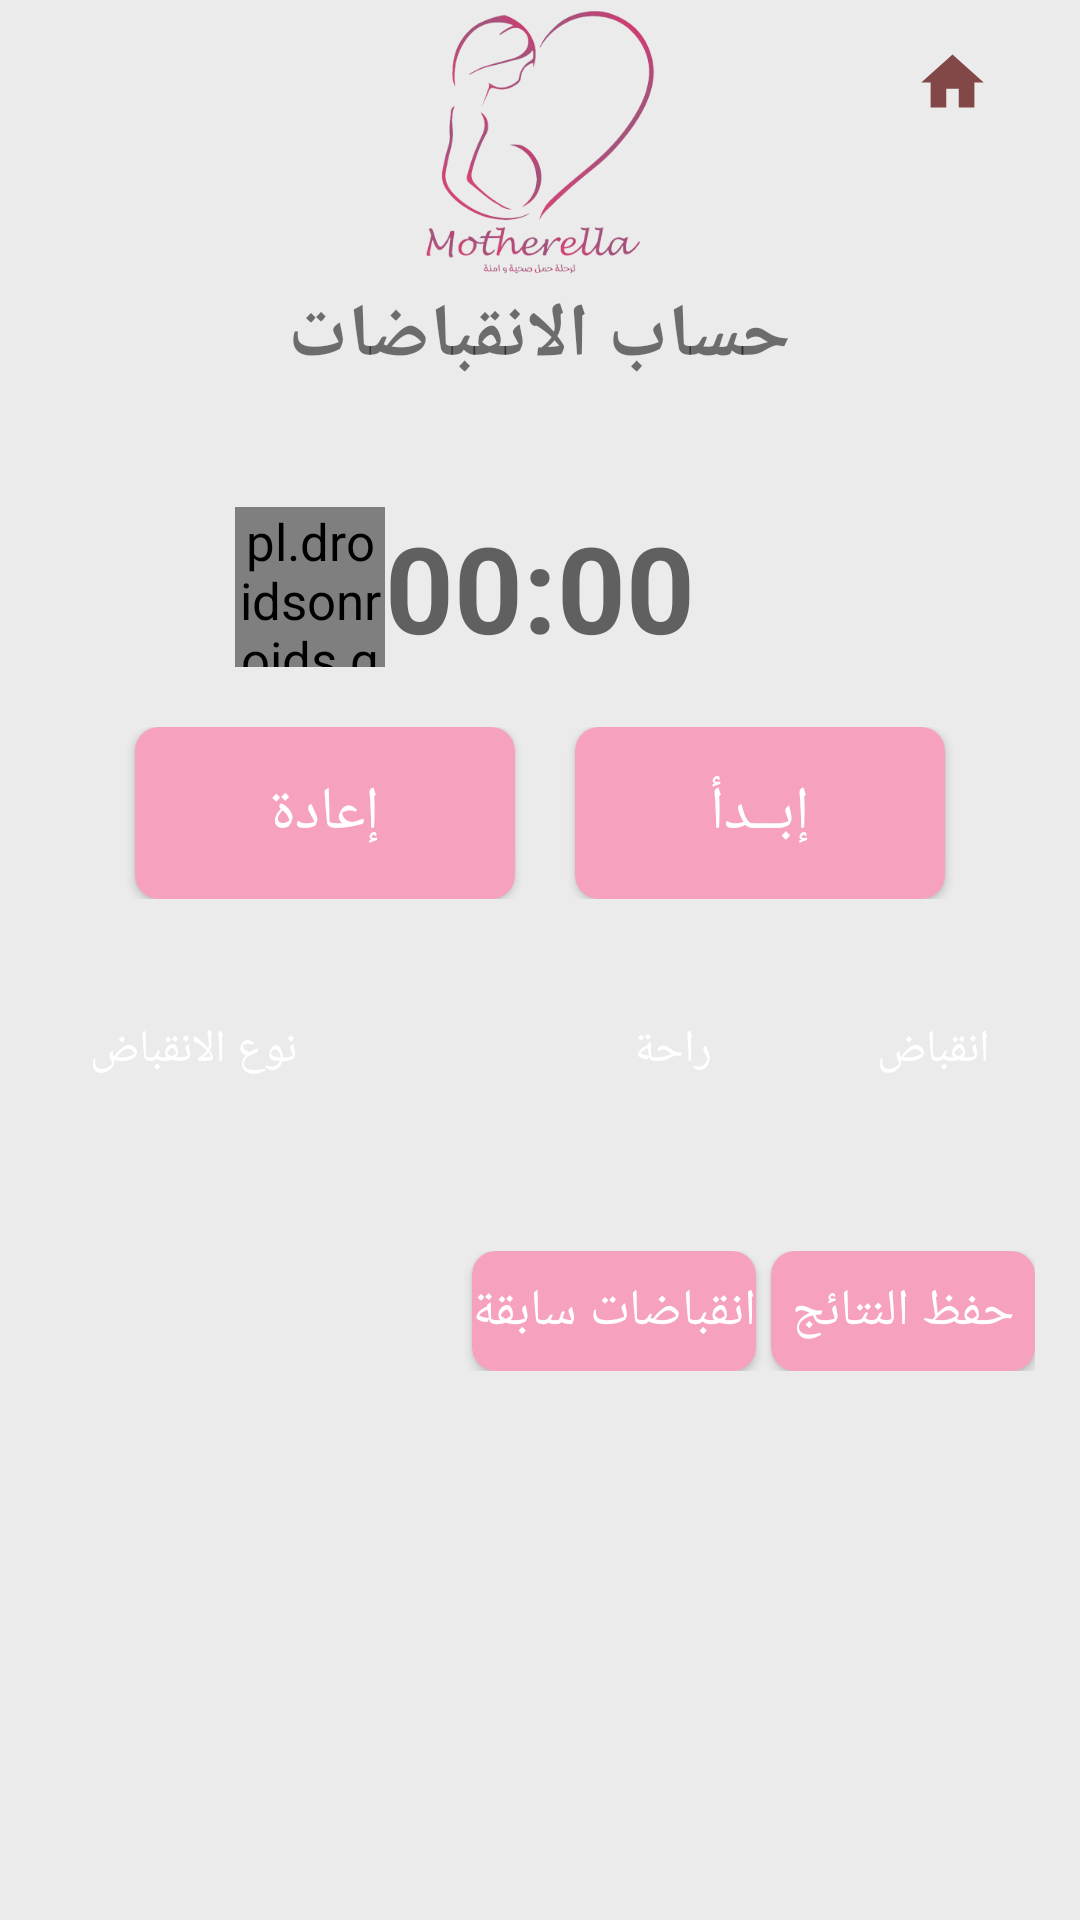

Named icons in this screenshot (1080 × 1920) and their centers, (x=x, y=y):
home: (x=952, y=81)
